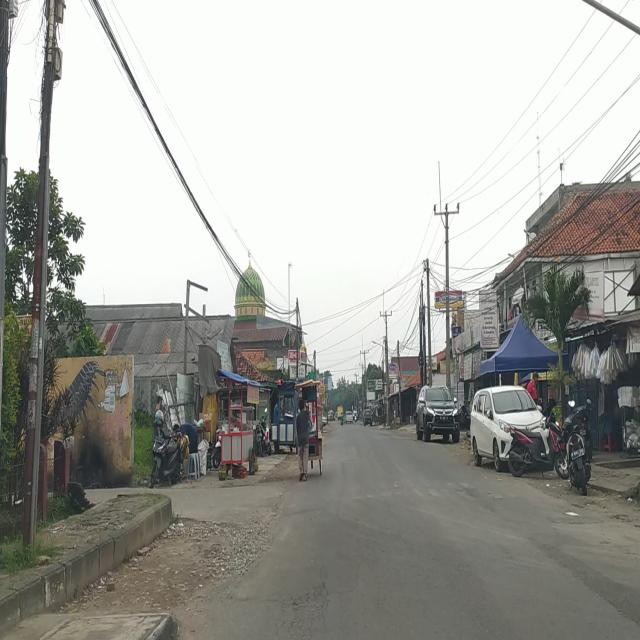Drain Hole: (280, 585, 332, 640)
